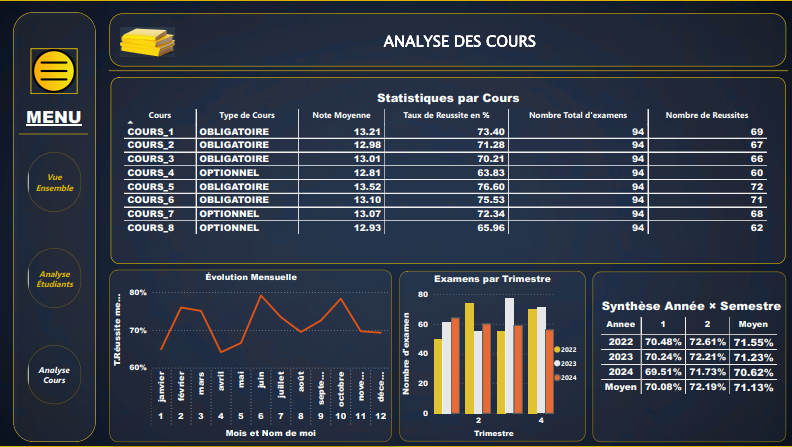

What the dashboard file says about the page in this screenshot:
{"tool":"powerbi","page":{"name":"Analyse Cours","canvas":[1280,720],"ordinal":2},"visuals":[{"type":"image","box":[0,0,1280,720],"z":0},{"type":"shape","box":[23.5,14.1,150.6,694.1],"z":1000},{"type":"shape","box":[191.8,14.1,227.1,85.9],"z":2000},{"type":"shape","box":[432.9,12.9,194.1,85.9],"z":3000},{"type":"shape","box":[848.2,14.1,194.1,85.9],"z":4000},{"type":"shape","box":[640,14.1,198.8,85.9],"z":5000},{"type":"shape","box":[1057.6,14.1,202.4,85.9],"z":6000},{"type":"shape","box":[191.8,100,1068.2,12.9],"z":7000},{"type":"shape","box":[191.8,114.1,571.8,301.2],"z":8000},{"type":"shape","box":[191.8,423.5,348.2,284.7],"z":9000},{"type":"shape","box":[774.1,112.9,485.9,302.4],"z":10000},{"type":"shape","box":[551.8,423.5,384.7,284.7],"z":11000},{"type":"shape","box":[945.9,423.5,314.1,284.7],"z":12000},{"type":"textbox","box":[48.2,145.9,101.2,61.2],"z":13000},{"type":"image","box":[61.2,69.4,74.1,74.1],"z":14000},{"type":"shape","box":[43.5,196.5,110.6,20],"z":15000},{"type":"image","box":[200,29.4,67.1,54.1],"z":16000},{"type":"textbox","box":[267.1,25.9,151.8,61.2],"z":17000},{"type":"textbox","box":[475.3,22.4,151.8,61.2],"z":18000},{"type":"image","box":[440,24.7,47.1,65.9],"z":19000},{"type":"card","fields":{"Values":["_Mesures.Nombre Total Examens"]},"box":[490.6,42.4,121.2,57.6],"z":20000},{"type":"textbox","title":"Taux Réussite","box":[682.4,25.9,165.9,28.2],"z":21000},{"type":"card","fields":{"Values":["_Mesures.Taux Réussite %"]},"box":[676.5,35.3,177.6,71.8],"z":22000},{"type":"image","box":[640,40,47.1,38.8],"z":23000},{"type":"textbox","title":"Note Moyenne","box":[904.7,25.9,137.6,28.2],"z":24000},{"type":"card","fields":{"Values":["_Mesures.Note Moyenne Globale"]},"box":[909.4,45.9,127.1,51.8],"z":25000},{"type":"image","box":[856.5,30.6,48.2,56.5],"z":26000},{"type":"textbox","title":"Nombre Étudiants","box":[1081.2,22.4,198.8,27.1],"z":27000},{"type":"card","fields":{"Values":["_Mesures.Nombre Étudiants"]},"box":[1097.6,43.5,165.9,50.6],"z":28000},{"type":"image","box":[1057.6,24.7,47.1,62.4],"z":29000},{"type":"lineChart","title":"Moyenne de Taux_Reussite par Annee et Trimestre","fields":{"Category":["v_evolution_temporelle.Annee","v_evolution_temporelle.Trimestre"],"Y":["Avg(v_evolution_temporelle.Taux_Reussite_Pct)"]},"box":[191.8,121.2,571.8,294.1],"z":30000},{"type":"clusteredColumnChart","title":"Nombre d''Examens par Trimestre","fields":{"Category":["v_evolution_temporelle.Trimestre"],"Y":["Sum(v_evolution_temporelle.Nombre_Examens)"]},"box":[774.1,114.1,485.9,301.2],"z":31000},{"type":"hundredPercentStackedBarChart","title":"Nombre de mentions par cours","fields":{"Category":["v_statistiques_cours.Cours"],"Y":["CountNonNull(v_statistiques_cours.Nb_Excellent)","CountNonNull(v_statistiques_cours.Nb_Bien)","CountNonNull(v_statistiques_cours.Nb_Passable)","CountNonNull(v_statistiques_cours.Nb_Echec)"]},"box":[561.8,433.5,384.7,284.7],"z":32000},{"type":"donutChart","title":"Somme des étudiants par Sexe","fields":{"Category":["v_reussite_par_genre.Sexe"],"Y":["Sum(v_reussite_par_genre.Nombre_Etudiants)"]},"box":[200,423.5,340,284.7],"z":33000},{"type":"clusteredColumnChart","title":"Taux de Réussite par type de ours","fields":{"Category":["v_statistiques_cours.Cours"],"Y":["_Mesures.Taux Réussite Obligatoires %","_Mesures.Taux Réussite Optionnels %"]},"box":[955.9,433.5,314.1,284.7],"z":34000},{"type":"image","box":[0,0,1280,720],"z":35000},{"type":"shape","box":[182.7,22.7,1083.6,85.5],"z":36000},{"type":"shape","box":[182.4,108.2,1087.1,12.9],"z":37000},{"type":"shape","box":[184.5,124.5,1080,299.1],"z":38000},{"type":"shape","box":[182.7,432.7,452.7,276.4],"z":39000},{"type":"textbox","box":[275,41.7,945.8,70.8],"z":40000},{"type":"shape","box":[19.7,12,150.5,706.3],"z":41000},{"type":"textbox","box":[43.6,164.2,100.9,61.6],"z":42000},{"type":"image","box":[57.3,78.7,74.4,73.5],"z":43000},{"type":"shape","box":[38.5,206.1,110.3,19.7],"z":44000},{"type":"shape","box":[956.2,436.5,309.4,272.9],"z":45000},{"type":"shape","box":[647.3,435.5,298.2,272.7],"z":46000},{"type":"image","box":[200,35.5,88.2,67.3],"z":47000},{"type":"tableEx","title":"Statistiques par Cours","fields":{"Values":["v_statistiques_cours.Cours","v_statistiques_cours.Type_Cours","v_statistiques_cours.Note_Moyenne","v_statistiques_cours.Taux_Reussite_Pct","v_statistiques_cours.Nombre_Total_Examens","v_statistiques_cours.Nombre_Reussites"]},"box":[200.9,143.6,1049.1,261.8],"z":48000},{"type":"lineChart","title":"Évolution Mensuelle","fields":{"Category":["v_reussite_par_mois.Mois","v_reussite_par_mois.Nom_Mois"],"Y":["_Mesures.Taux Reussite Mensuel"]},"box":[184.5,435.5,450.9,272.7],"z":49000},{"type":"clusteredColumnChart","title":" Examens par Trimestre","fields":{"Category":["v_evolution_temporelle.Trimestre"],"Y":["Sum(v_evolution_temporelle.Nombre_Examens)"],"Series":["v_evolution_temporelle.Annee"]},"box":[647.3,436.4,298.2,271.8],"z":50000},{"type":"pivotTable","title":"Synthèse Année × Semestre","fields":{"Rows":["v_evolution_temporelle.Annee"],"Columns":["v_evolution_temporelle.Semestre"],"Values":["_Mesures.Taux Reussite Annuel"]},"box":[964.6,477.1,299,193.8],"z":51000},{"type":"pageNavigator","box":[38.6,232.3,112.1,431.5],"z":52000}]}

Visuals, with their boxes in screenshot pixels (x1, y1, x2, y2), scaled from the page's 1280x720 canvas onto the 792x447 screenshot:
image: 0:0:791:446
shape: 15:9:108:440
shape: 119:9:259:62
shape: 268:8:388:61
shape: 525:9:645:62
shape: 396:9:519:62
shape: 654:9:780:62
shape: 119:62:780:70
shape: 119:71:472:258
shape: 119:263:334:440
shape: 479:70:780:258
shape: 341:263:579:440
shape: 585:263:780:440
textbox: 30:91:92:129
image: 38:43:84:89
shape: 27:122:95:134
image: 124:18:165:52
textbox: 165:16:259:54
textbox: 294:14:388:52
image: 272:15:301:56
card - _Mesures.Nombre Total Examens: 304:26:379:62
"Taux Réussite" textbox: 422:16:525:34
card - _Mesures.Taux Réussite %: 419:22:528:66
image: 396:25:425:49
"Note Moyenne" textbox: 560:16:645:34
card - _Mesures.Note Moyenne Globale: 563:28:641:61
image: 530:19:560:54
"Nombre Étudiants" textbox: 669:14:791:31
card - _Mesures.Nombre Étudiants: 679:27:782:58
image: 654:15:684:54
"Moyenne de Taux_Reussite par Annee et Trimestre" lineChart: 119:75:472:258
"Nombre d''Examens par Trimestre" clusteredColumnChart: 479:71:780:258
"Nombre de mentions par cours" hundredPercentStackedBarChart: 348:269:586:446
"Somme des étudiants par Sexe" donutChart: 124:263:334:440
"Taux de Réussite par type de ours" clusteredColumnChart: 591:269:786:446
image: 0:0:791:446
shape: 113:14:784:67
shape: 113:67:786:75
shape: 114:77:782:263
shape: 113:269:393:440
textbox: 170:26:755:70
shape: 12:7:105:446
textbox: 27:102:89:140
image: 35:49:81:94
shape: 24:128:92:140
shape: 592:271:783:440
shape: 401:270:585:440
image: 124:22:178:64
"Statistiques par Cours" tableEx: 124:89:773:252
"Évolution Mensuelle" lineChart: 114:270:393:440
" Examens par Trimestre" clusteredColumnChart: 401:271:585:440
"Synthèse Année × Semestre" pivotTable: 597:296:782:417
pageNavigator: 24:144:93:412
